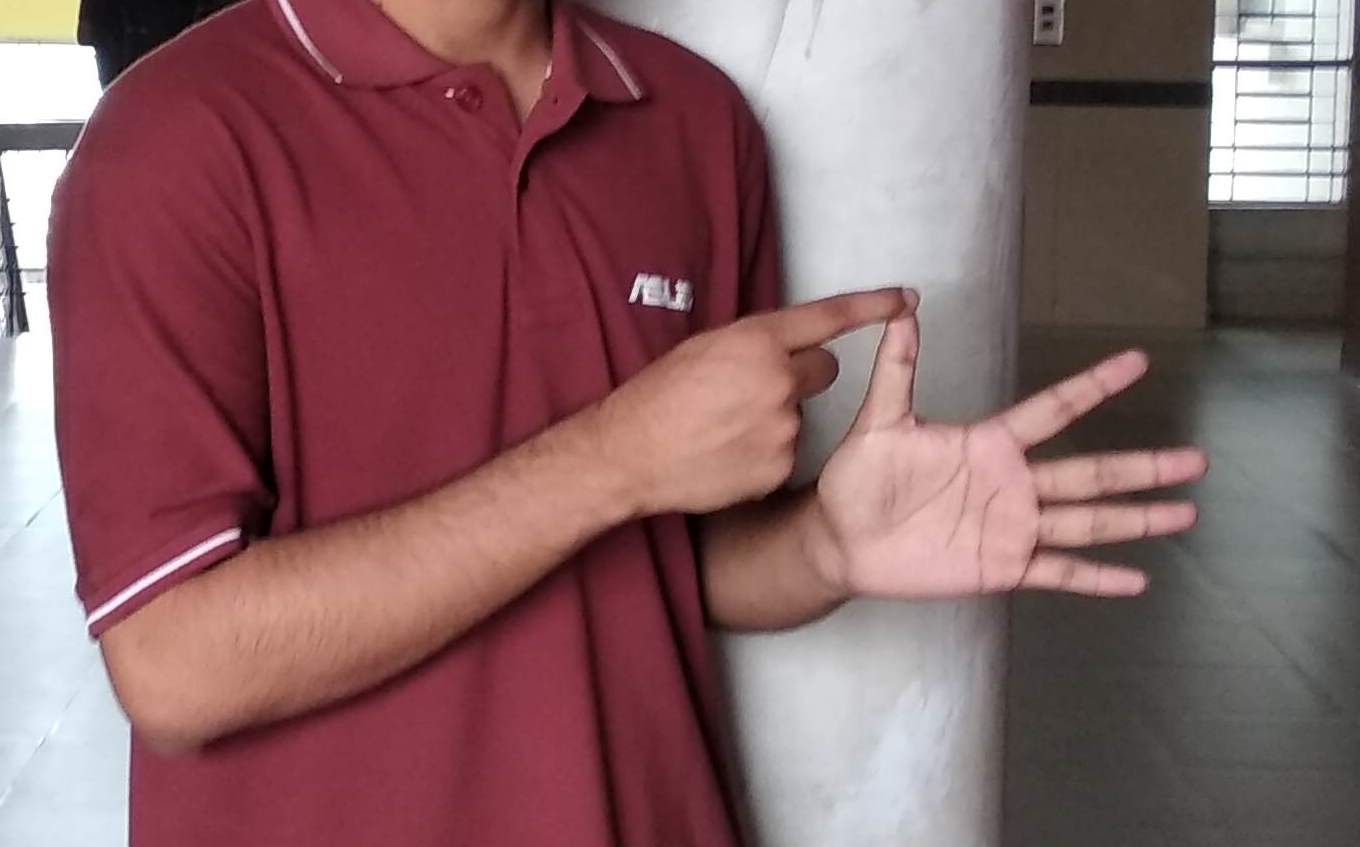a: (699, 281, 1188, 598)
